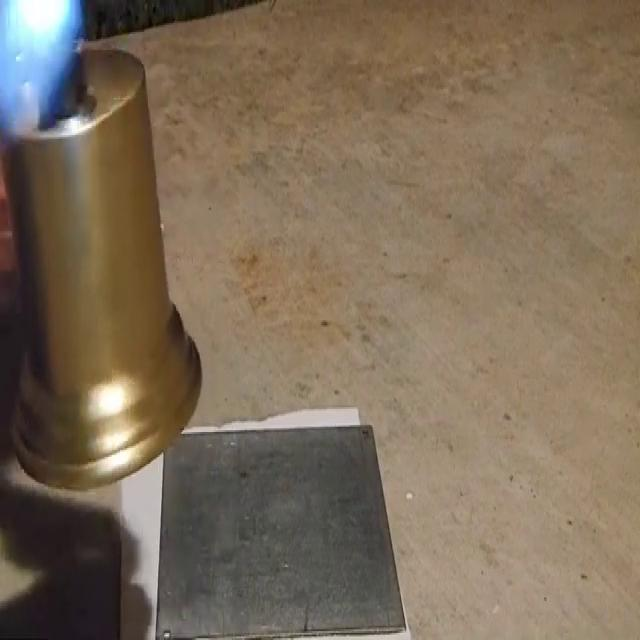fire: (0, 0, 102, 148)
